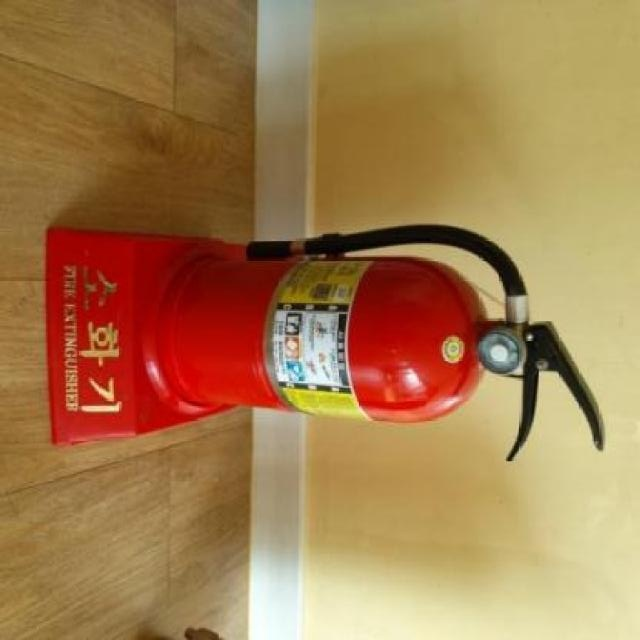fire extinguisher: (157, 225, 606, 463)
